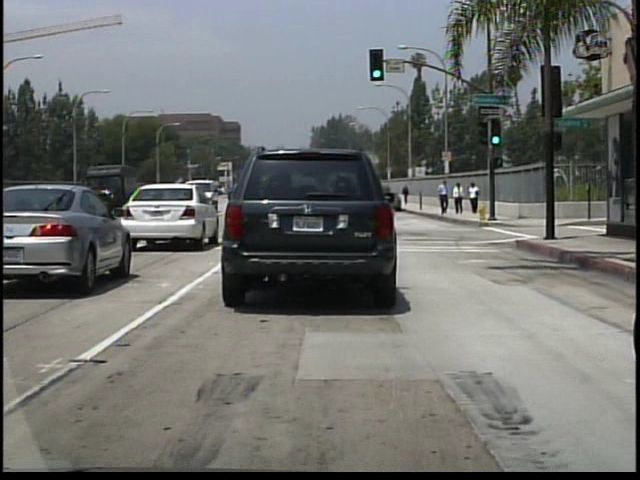person: (439, 178, 453, 217), (469, 181, 483, 215), (452, 183, 466, 217), (401, 183, 411, 205)
